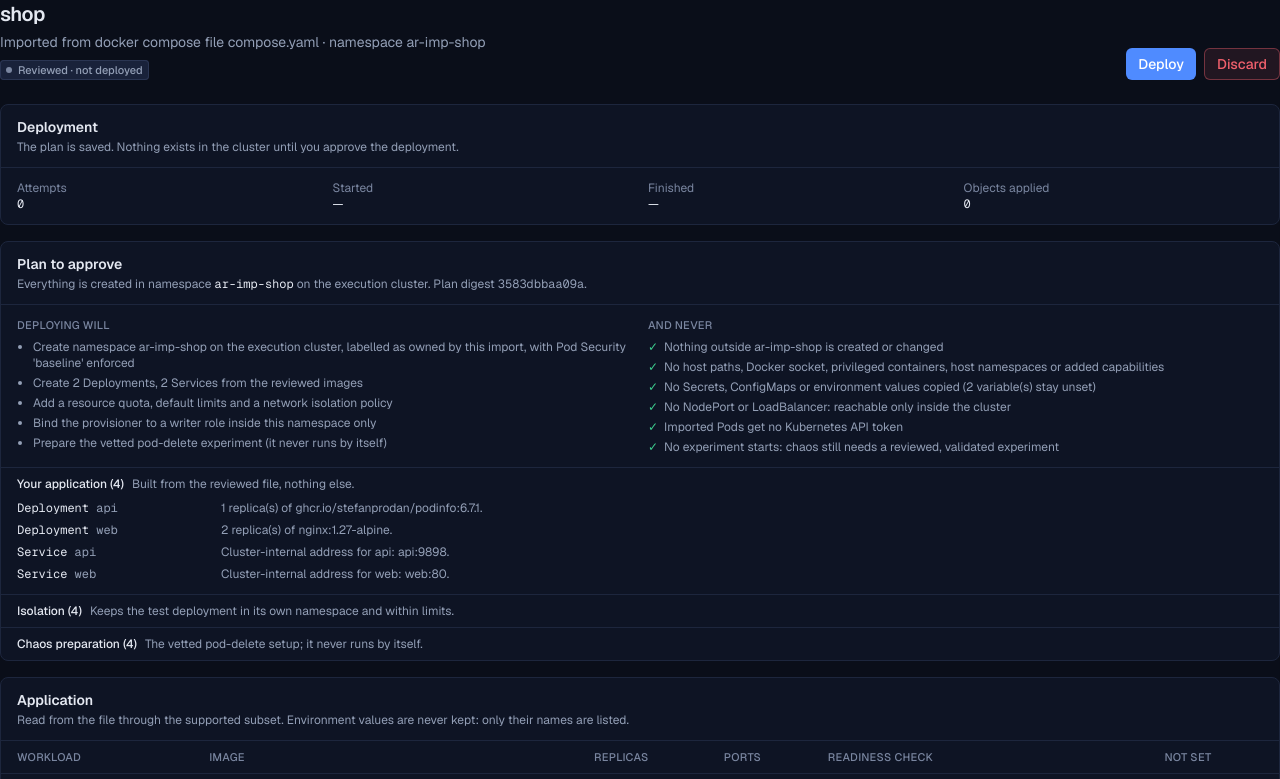
Scenario: Import page › a saved import is deployed only after confirming the exact plan
Expected: the text "Reviewed · not deployed" is shown, [0,60,149,80]
Click the button "Deploy" at (1161, 64), box [1126,48,1196,80]
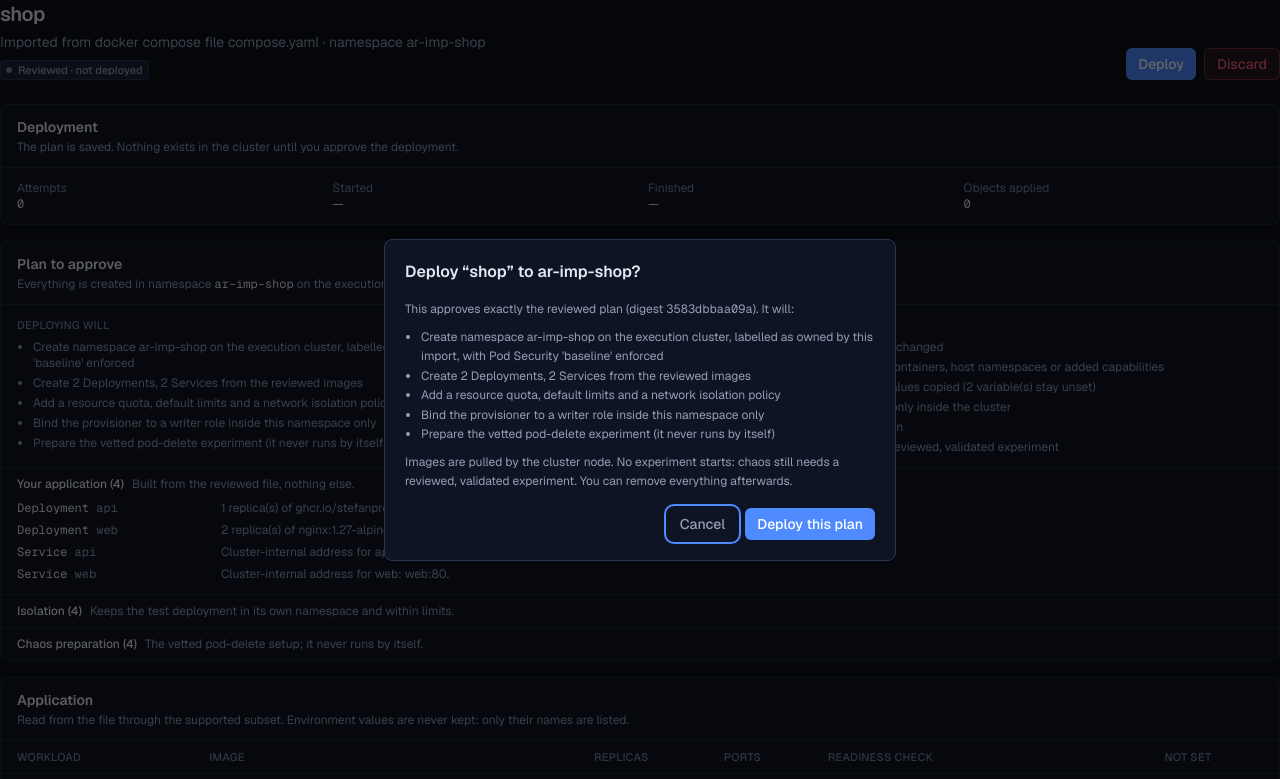
Now the dialog shows "No experiment starts", box [405,454,839,489]
Click the button "Deploy this plan" at (810, 524), box [745,508,875,540]
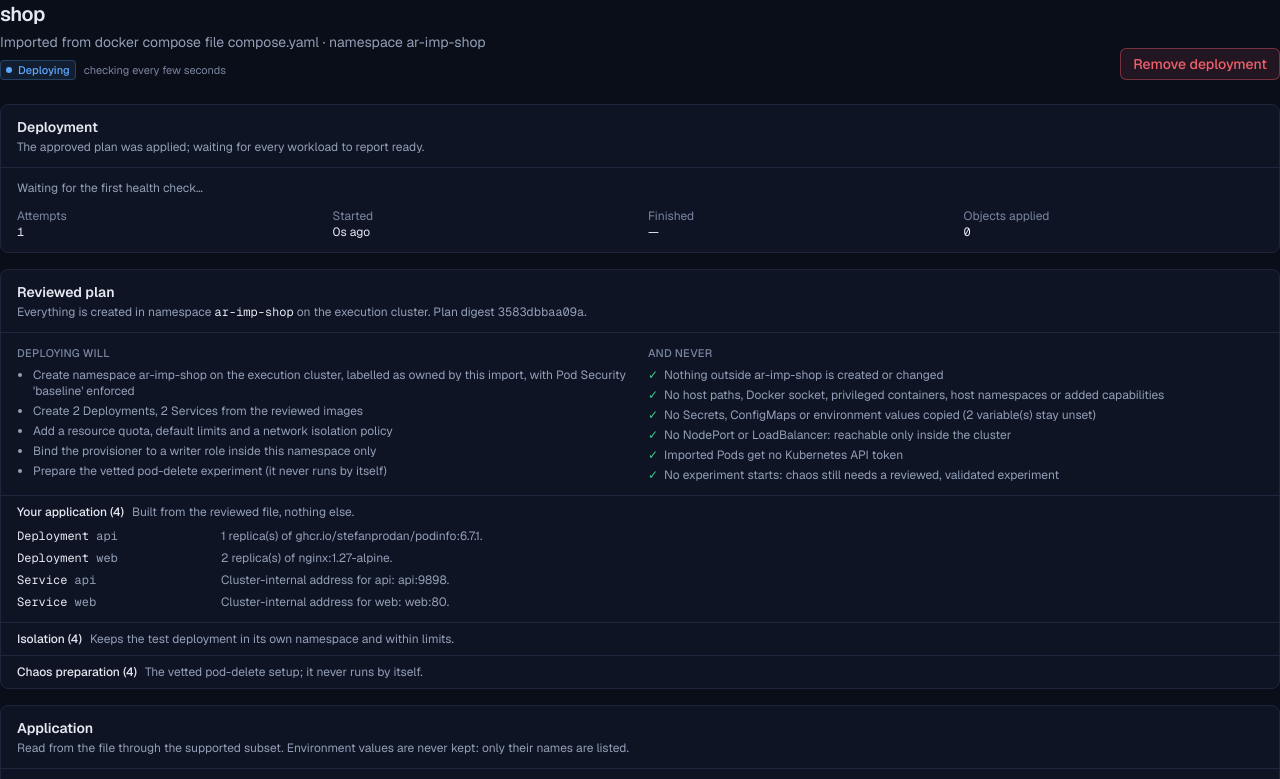
Now the text "Deploying" is shown, box [0,60,76,80]
